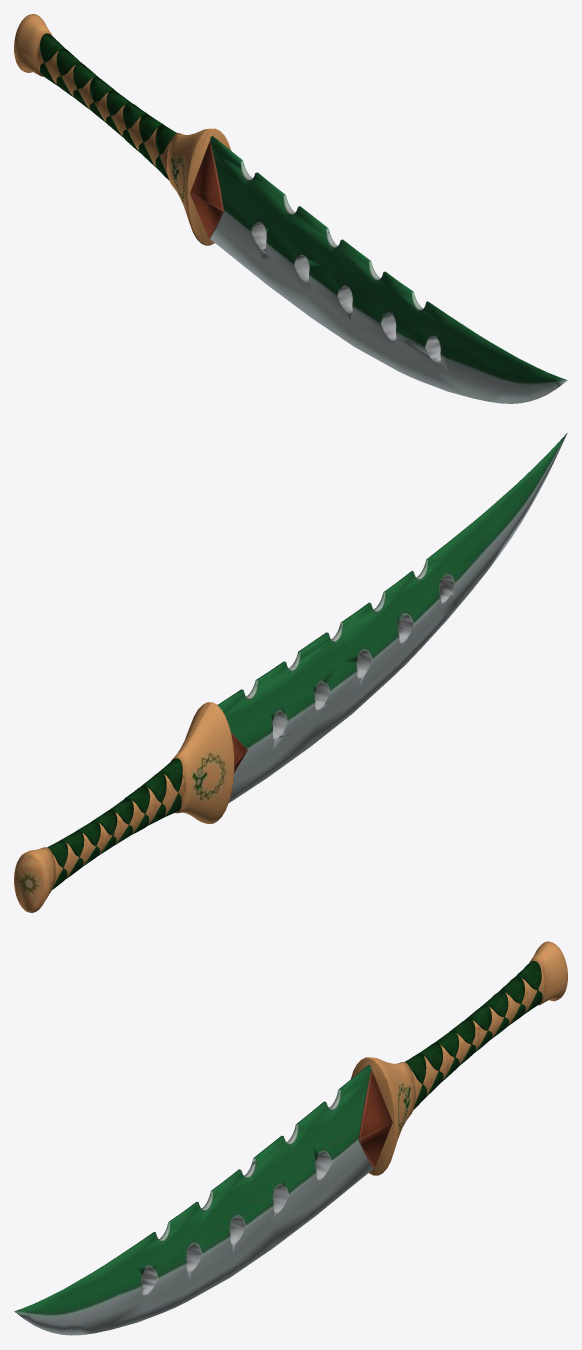
File: item.weapon.relay_twin_blades.glb
3 views of the same model, one above another, from view 1: azimuth 30°, elevation 25°; view 2: azimuth 150°, elevation 25°; view 3: azimuth 330°, elevation 25° (orthographic).
Parts seen in each view (by area): view 1: gard_low; view 2: gard_low; view 3: gard_low.
Part boxes in pixels (x1,y1,x2,y2): gard_low: (14,14,567,403); gard_low: (14,433,567,912); gard_low: (14,941,567,1335).
Size of the model in its own units: 0.0613 by 0.1561 by 1.2.
1 material, 1 textured.
